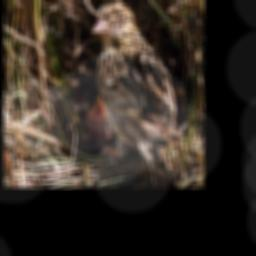Sparrow: (90, 2, 182, 187)
